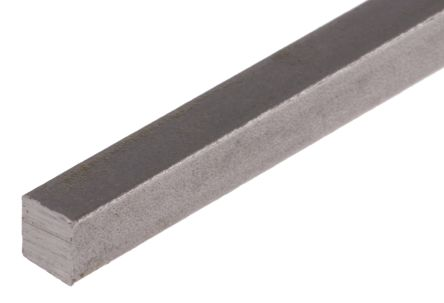metal: (20, 1, 444, 287)
